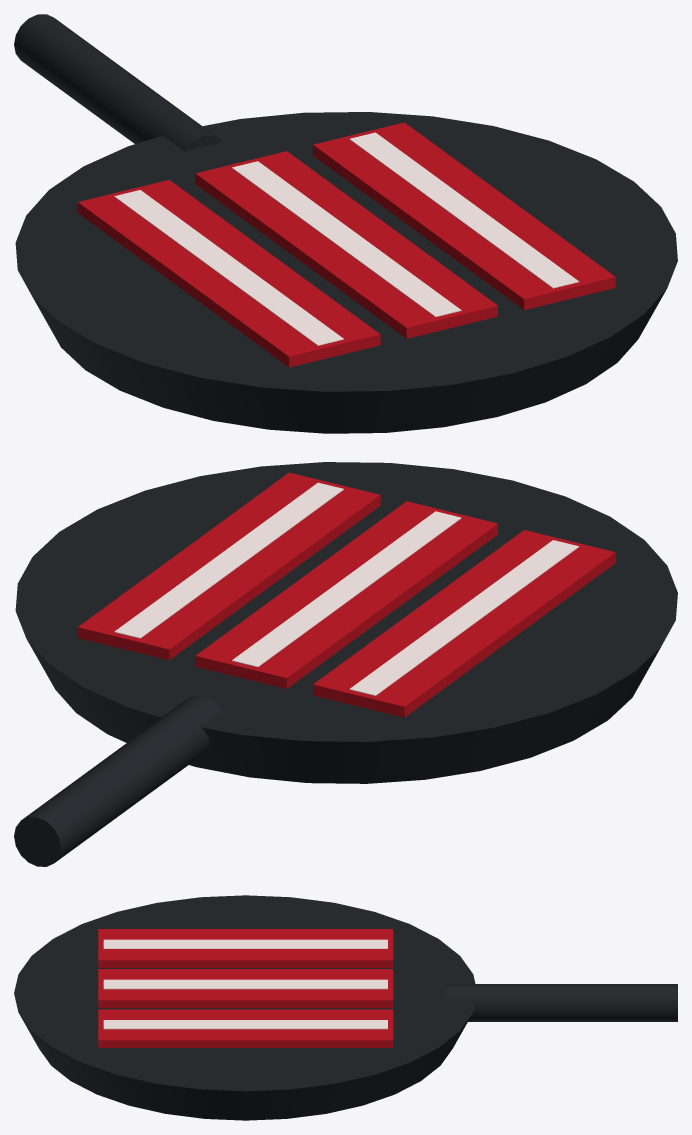
Rendered from sizzling_bacon.glb.
3 renders of one model, top to bottom at view 1: azimuth 30°, elevation 25°; view 2: azimuth 150°, elevation 25°; view 3: azimuth 270°, elevation 25°, orthographic. The views are drawn at different scales.
Visible parts, largest first — view 1: model_sizzling_bacon; view 2: model_sizzling_bacon; view 3: model_sizzling_bacon.
Boxes of the visible parts, x1,y1,x2,y2 form: model_sizzling_bacon: (14,14,677,433); model_sizzling_bacon: (14,462,677,866); model_sizzling_bacon: (14,895,677,1120).
Size of the model in its own units: 4.4 by 0.495 by 6.3.
